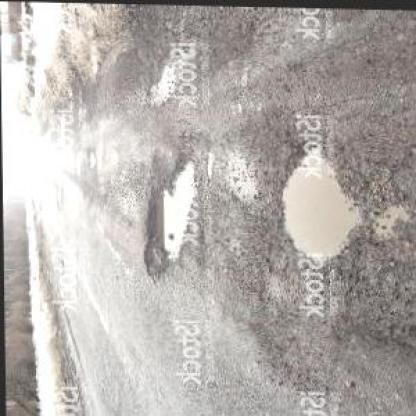pothole: (274, 144, 358, 265), (138, 147, 198, 276)
